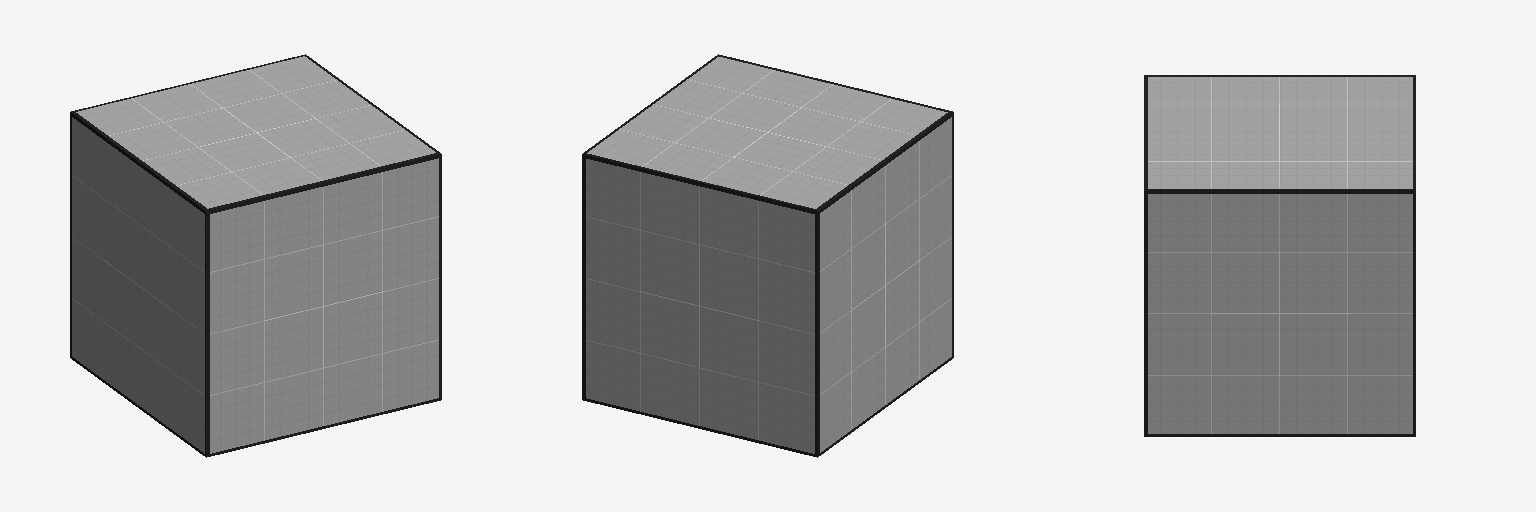
3 views of the same model, side by side, from view 1: azimuth 30°, elevation 25°; view 2: azimuth 150°, elevation 25°; view 3: azimuth 270°, elevation 25° (orthographic).
Parts seen in each view (by area): view 1: Cube_Cube.001; view 2: Cube_Cube.001; view 3: Cube_Cube.001.
Boxes of the visible parts, x1=… form: Cube_Cube.001: x1=70, y1=54, x2=441, y2=457; Cube_Cube.001: x1=582, y1=54, x2=953, y2=457; Cube_Cube.001: x1=1144, y1=75, x2=1415, y2=436.
Bounding box in the file's own units: 8 × 8 × 8.
1 materials, 1 textured.